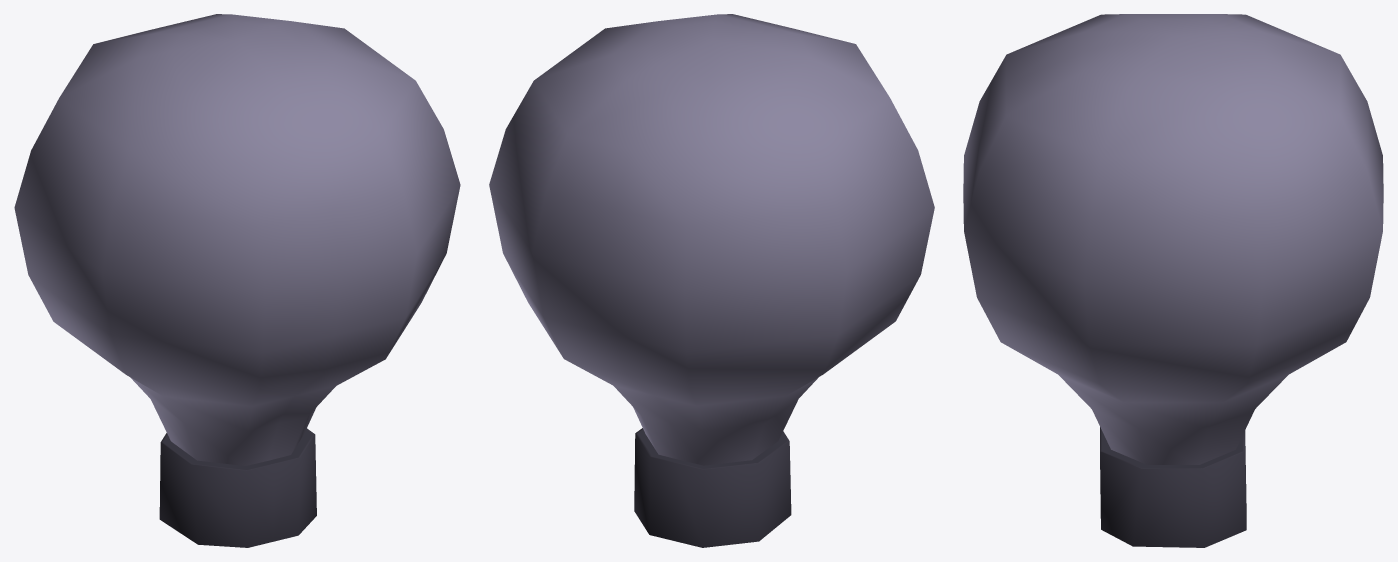
Rendered from lightbulb.fbx.
3 views of the same model, side by side, from view 1: azimuth 30°, elevation 25°; view 2: azimuth 150°, elevation 25°; view 3: azimuth 270°, elevation 25° (orthographic).
Visible parts, largest first — view 1: bulb; view 2: bulb; view 3: bulb.
Part boxes in pixels (x1,y1,x2,y2): bulb: (14,14,460,547); bulb: (489,14,934,547); bulb: (963,14,1383,547).
Bounding box in the file's own units: 24.45 × 30.99 × 24.53.
